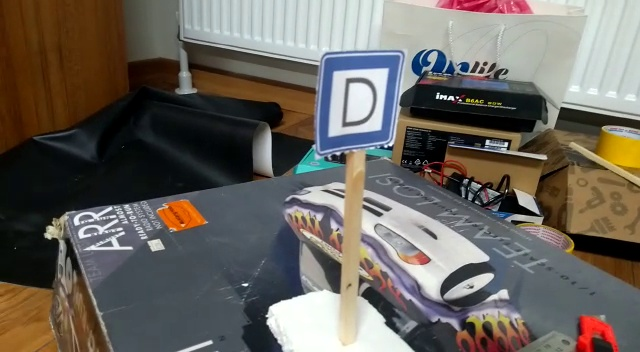durak: (328, 48, 382, 150)
